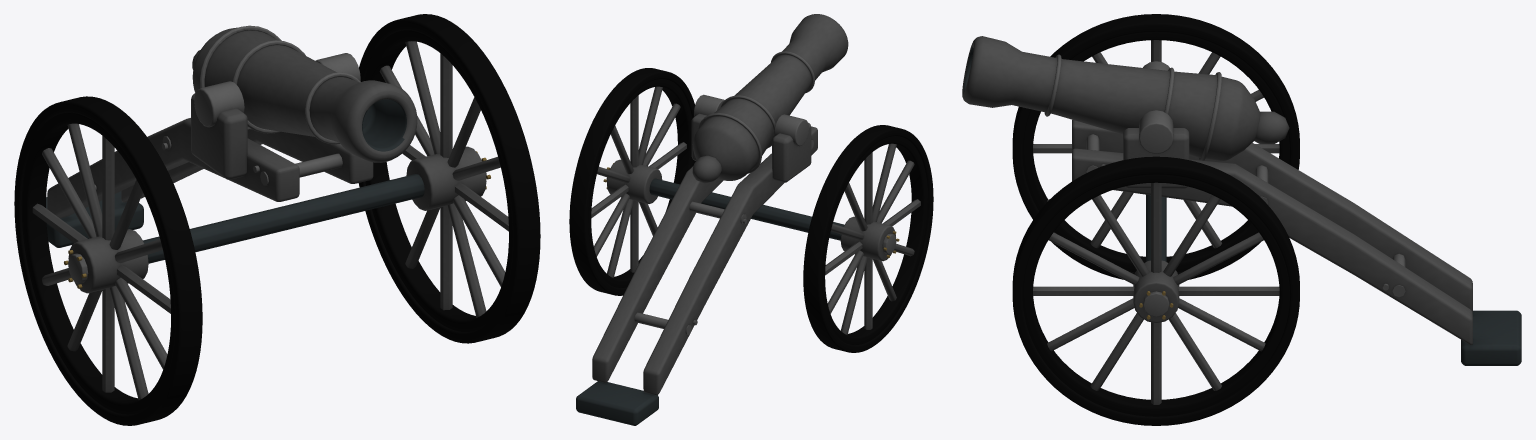
File: cannon.glb
3 views of the same model, side by side, from view 1: azimuth 30°, elevation 25°; view 2: azimuth 150°, elevation 25°; view 3: azimuth 270°, elevation 25° (orthographic). The views are drawn at different scales.
Visible parts, largest first — view 1: cannon_static_0, cannon_wheel_left_1, cannon_wheel_right_2; view 2: cannon_static_0, cannon_wheel_left_1, cannon_wheel_right_2; view 3: cannon_static_0, cannon_wheel_right_2, cannon_wheel_left_1.
Part boxes in pixels (x1,y1,x2,y2): cannon_static_0: (46,25,424,263); cannon_wheel_left_1: (14,96,202,425); cannon_wheel_right_2: (358,14,540,343); cannon_static_0: (576,14,848,425); cannon_wheel_left_1: (803,125,933,352); cannon_wheel_right_2: (569,68,695,295); cannon_static_0: (962,36,1521,365); cannon_wheel_right_2: (1012,156,1299,425); cannon_wheel_left_1: (1012,14,1299,279).
Bounding box in the file's own units: 1.54 × 1.3 × 2.12.
1 material, 1 textured.
